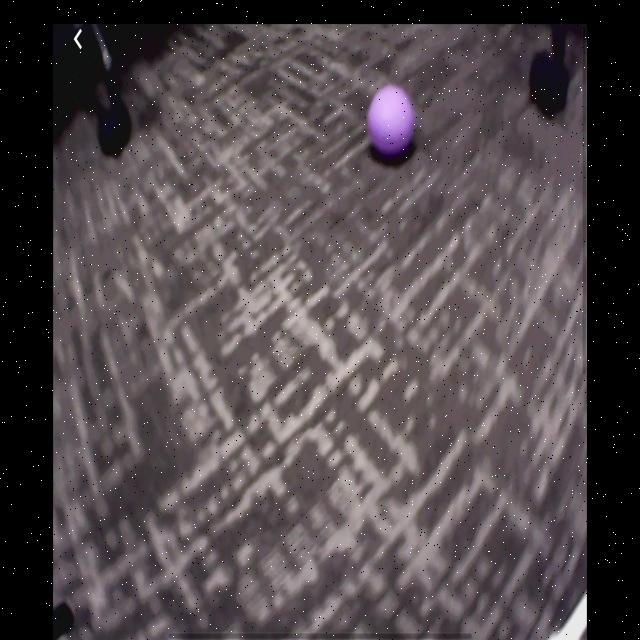ball: (370, 85, 414, 156)
